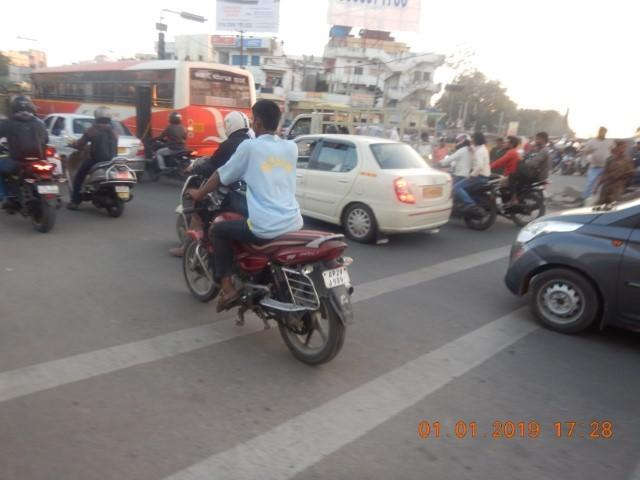plate: (325, 267, 346, 288)
